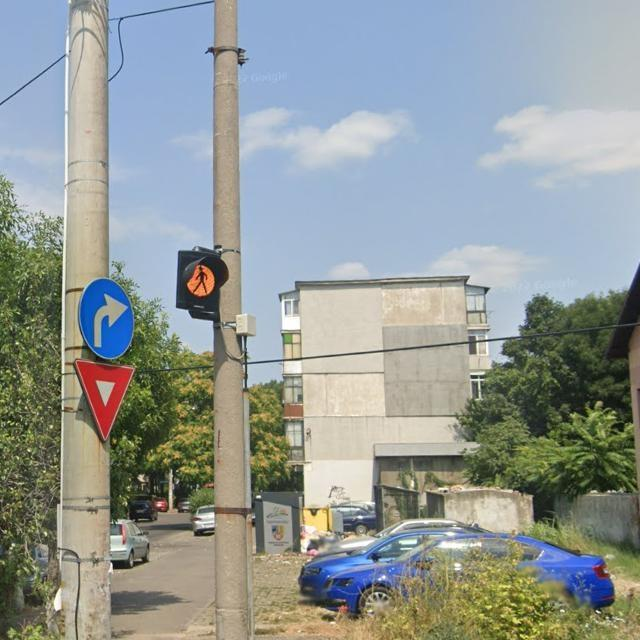prio_give_way: (68, 358, 140, 447)
